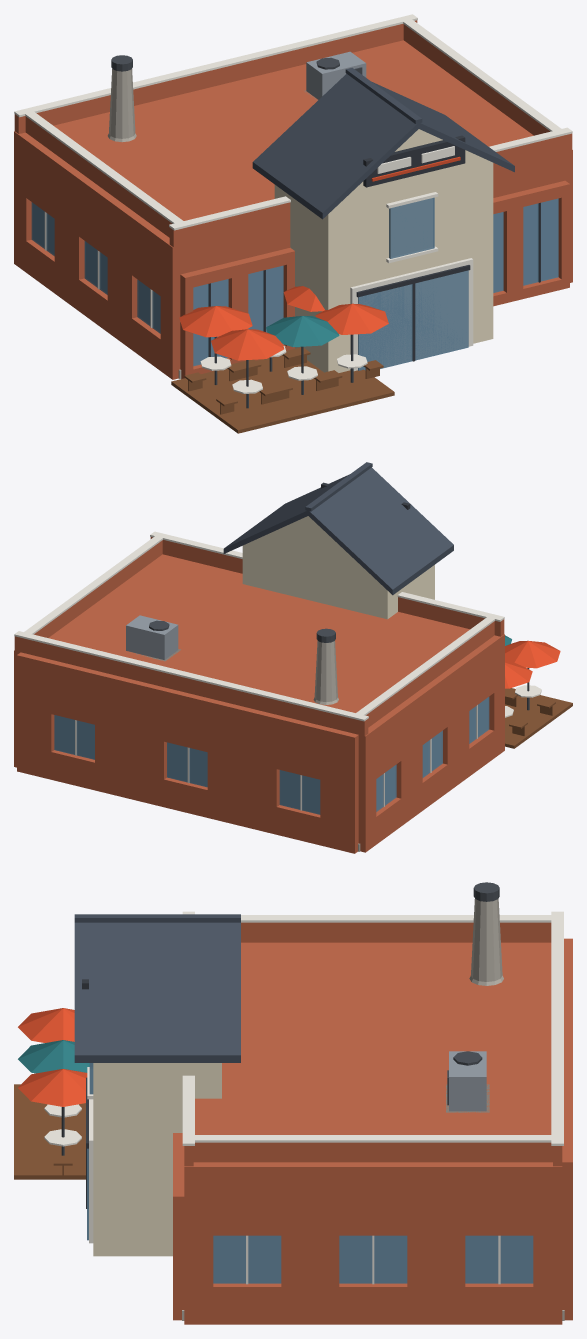
File: BUILDING_07.obj
The picture shows the model from 3 angles, top to bottom: view 1: azimuth 30°, elevation 25°; view 2: azimuth 150°, elevation 25°; view 3: azimuth 270°, elevation 25°; orthographic projection. The views are drawn at different scales.
Parts seen in each view (by area): view 1: roof, walls_core, entrance_volume, walls_floor00, storefront, doors, umbrellas, patio, storefront_glass, patio_furniture, windows_floor00, signage (+3 smaller); view 2: walls_floor00, walls_core, roof, entrance_volume, windows_floor00, gable_walls, roof_equipment, umbrellas, patio, exhaust, patio_furniture; view 3: walls_core, walls_floor00, roof, entrance_volume, windows_floor00, umbrellas, patio, exhaust, roof_equipment, storefront, patio_furniture.
Part boxes in pixels (left/top/right/bottom): roof: left=14, top=14, right=572, bottom=247; walls_core: left=54, top=40, right=565, bottom=274; entrance_volume: left=274, top=161, right=493, bottom=372; walls_floor00: left=14, top=131, right=572, bottom=379; storefront: left=180, top=180, right=569, bottom=378; doors: left=356, top=265, right=470, bottom=370; umbrellas: left=179, top=286, right=388, bottom=386; patio: left=171, top=355, right=394, bottom=433; storefront_glass: left=193, top=198, right=558, bottom=366; patio_furniture: left=184, top=346, right=383, bottom=414; windows_floor00: left=31, top=202, right=160, bottom=333; signage: left=363, top=135, right=465, bottom=187; walls_floor00: left=14, top=634, right=504, bottom=853; walls_core: left=48, top=554, right=469, bottom=712; roof: left=14, top=462, right=504, bottom=736; entrance_volume: left=242, top=544, right=434, bottom=619; windows_floor00: left=54, top=697, right=489, bottom=814; gable_walls: left=246, top=516, right=370, bottom=574; roof_equipment: left=126, top=615, right=180, bottom=661; umbrellas: left=505, top=635, right=560, bottom=691; patio: left=505, top=688, right=572, bottom=748; exhaust: left=313, top=628, right=338, bottom=704; patio_furniture: left=505, top=685, right=555, bottom=735; walls_core: left=195, top=942, right=551, bottom=1134; walls_floor00: left=184, top=938, right=572, bottom=1324; roof: left=74, top=911, right=563, bottom=1166; entrance_volume: left=87, top=1063, right=221, bottom=1256; windows_floor00: left=213, top=1235, right=533, bottom=1284; umbrellas: left=18, top=1008, right=89, bottom=1137; patio: left=14, top=1084, right=85, bottom=1179; exhaust: left=469, top=882, right=503, bottom=985; roof_equipment: left=446, top=1051, right=489, bottom=1112; storefront: left=173, top=1133, right=184, bottom=1320; patio_furniture: left=44, top=1104, right=81, bottom=1178.
Size of the model in its own units: 14.88 by 8.52 by 14.78.
